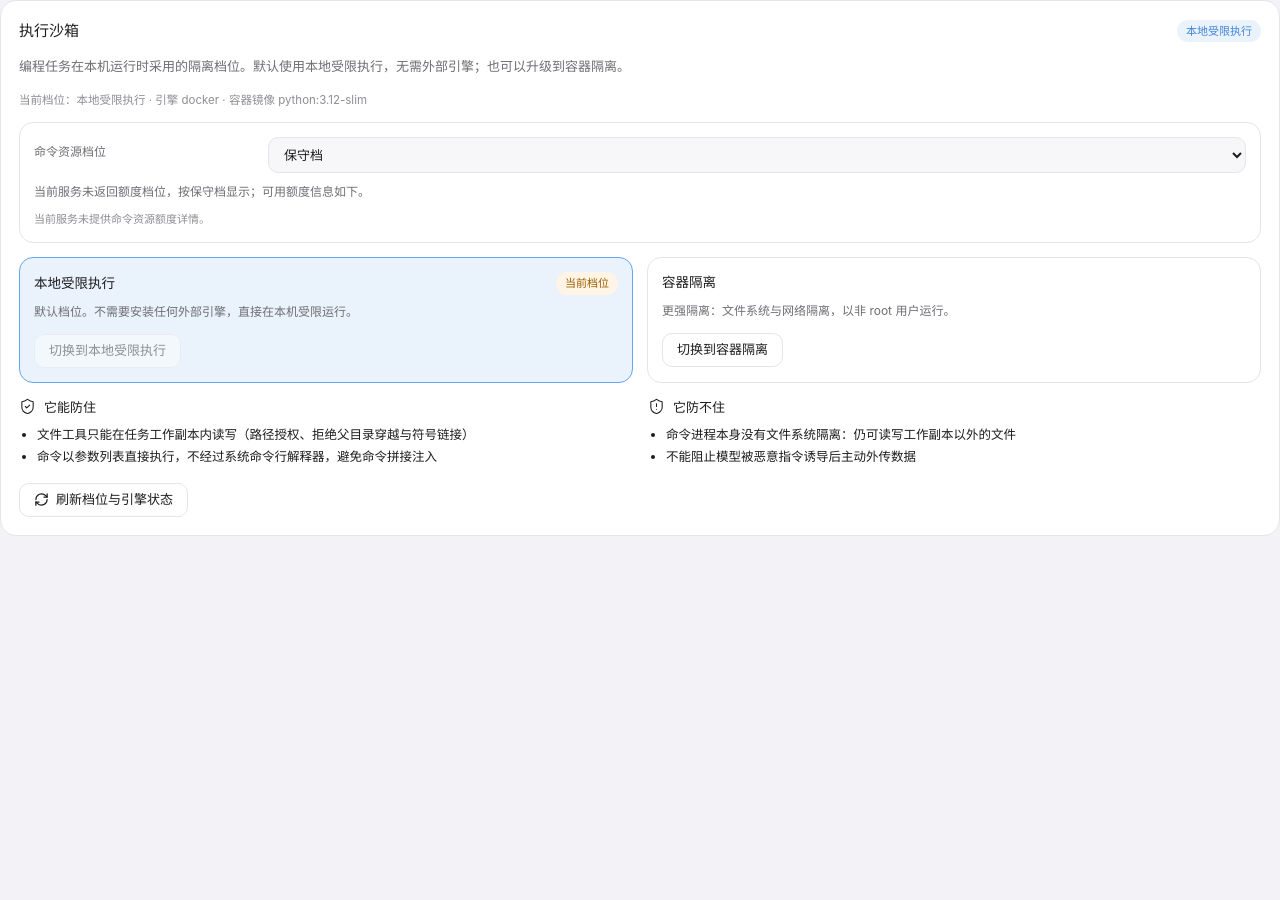
Test case: 引擎可用时切换到容器档需要先确认，确认后保存并更新展示
Click the button "切换到容器隔离": (722, 350) [662,333,783,367]
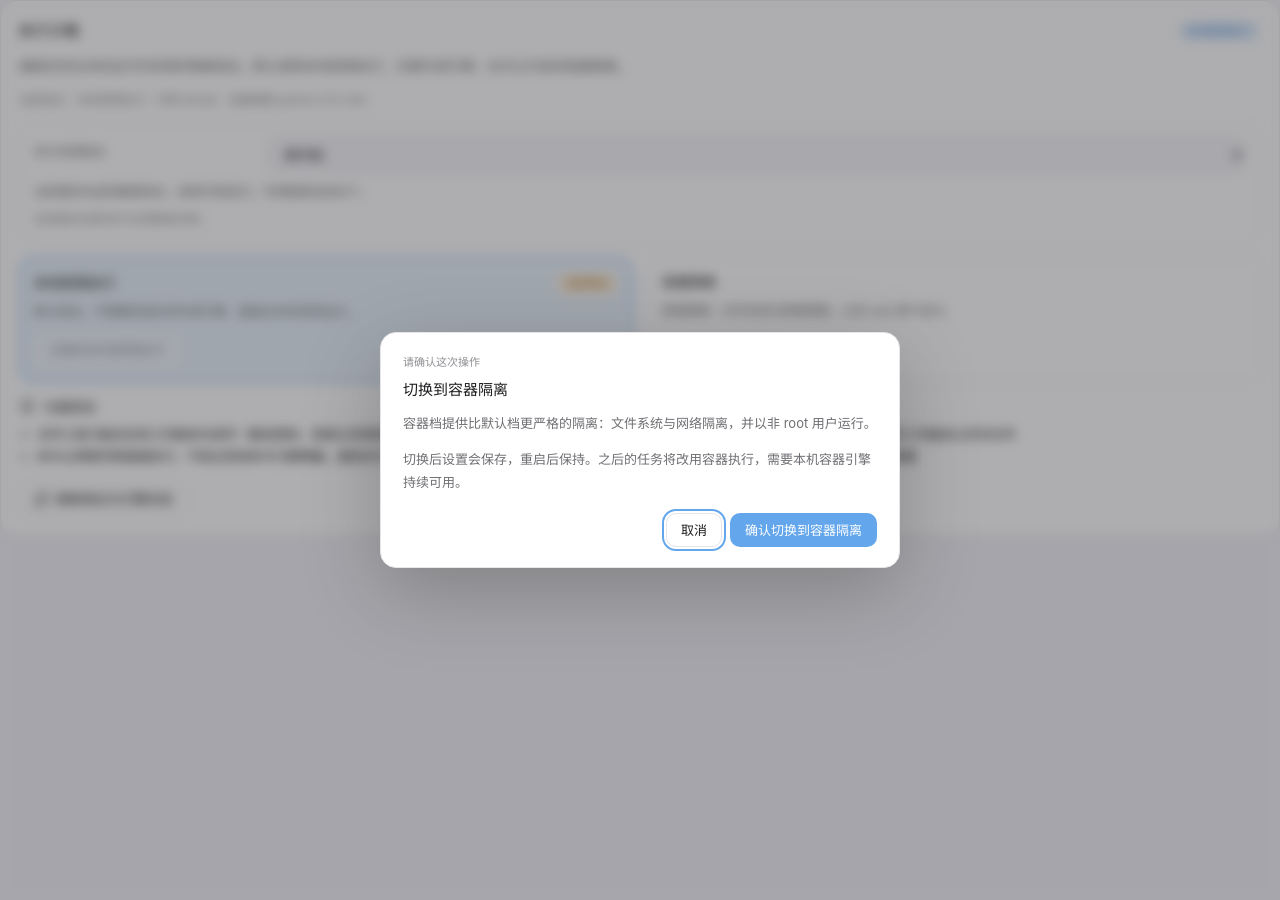
Now the dialog shows "更严格的隔离", box [403,415,877,431]
Click the button "确认切换到容器隔离": (804, 530) [730,513,877,547]
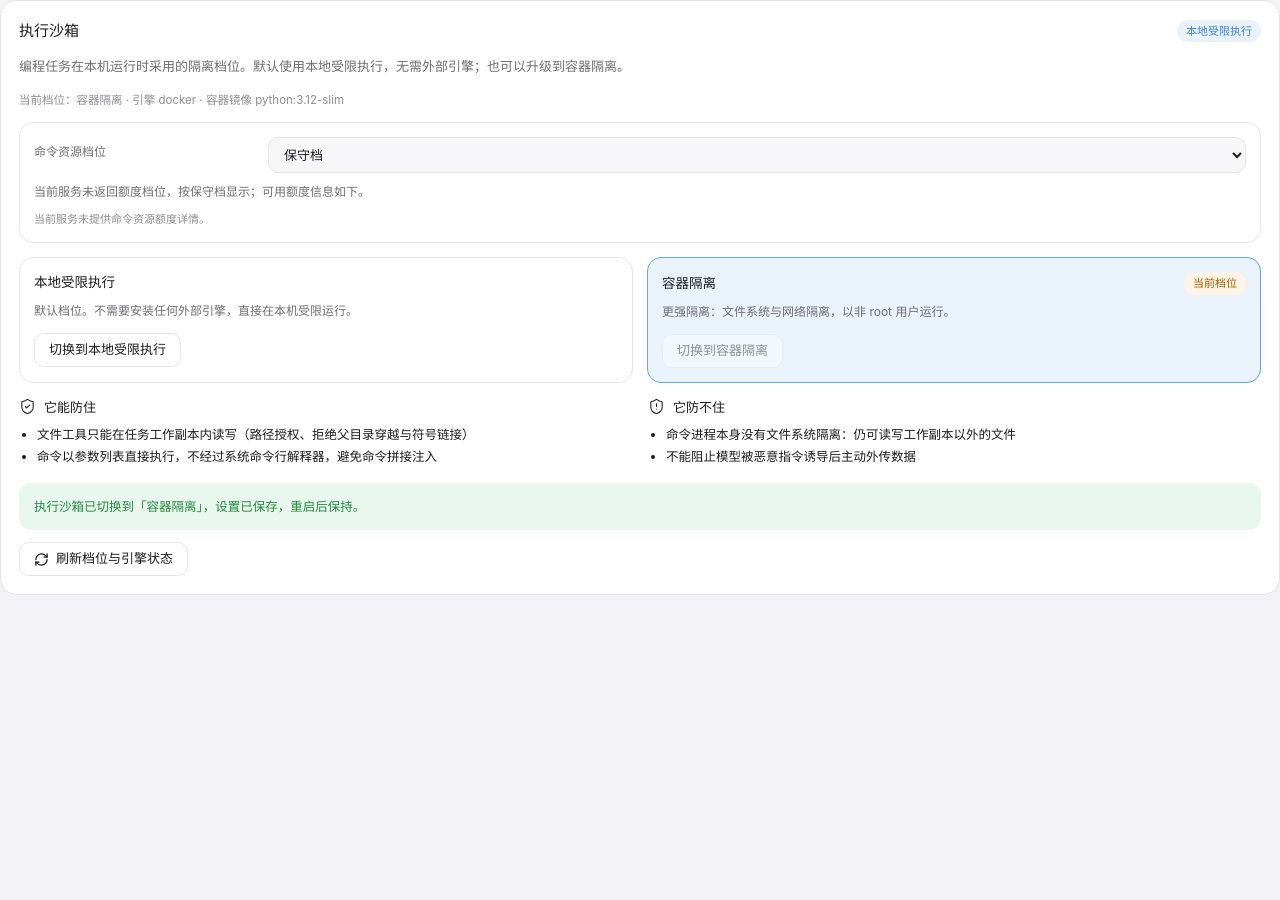
Now the text "执行沙箱已切换到「容器隔离」，设置已保存，重启后保持。" is shown, box [19,483,1261,530]
Now the button "切换到容器隔离" is disabled, box [662,334,783,368]
Now the button "切换到本地受限执行" is enabled, box [34,333,181,367]
